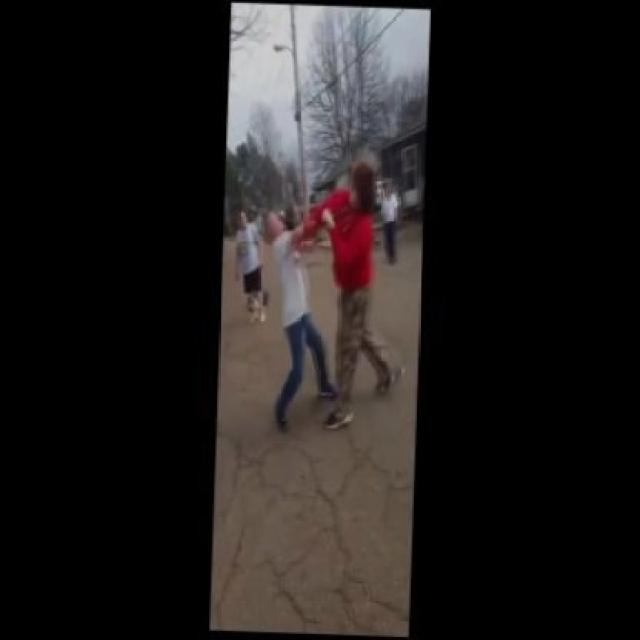fight: (238, 151, 418, 440)
